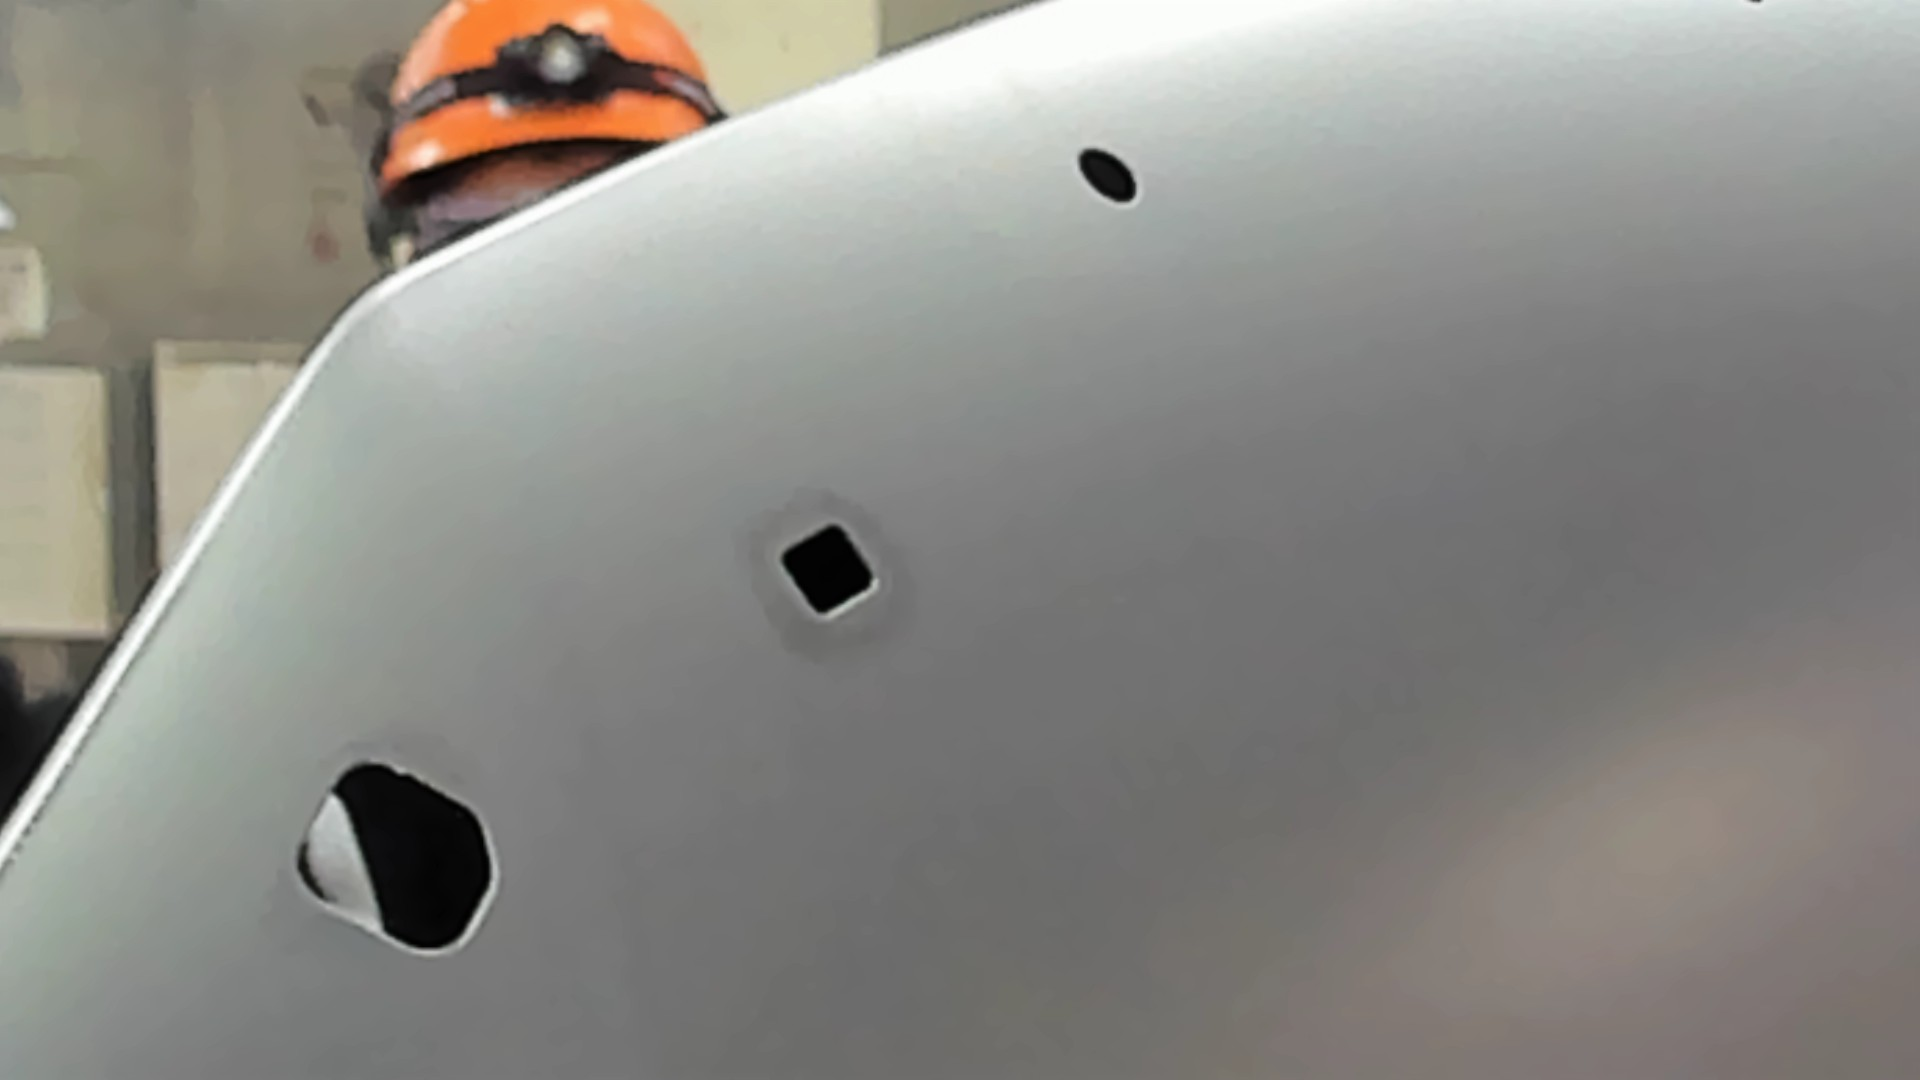chico: (1069, 144, 1145, 208)
grande: (287, 753, 504, 967)
mediano: (770, 516, 884, 626)
